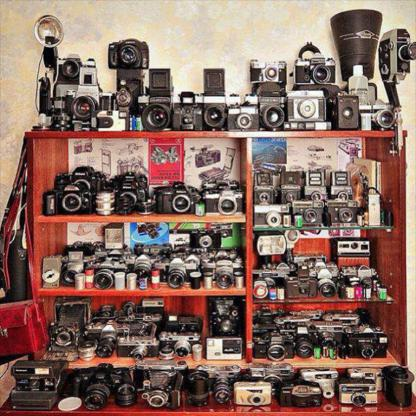Camera: (12, 7, 416, 408), (156, 183, 204, 217)
